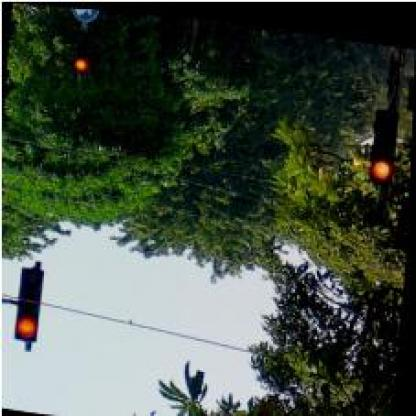red: (367, 101, 398, 174), (15, 265, 44, 340)
